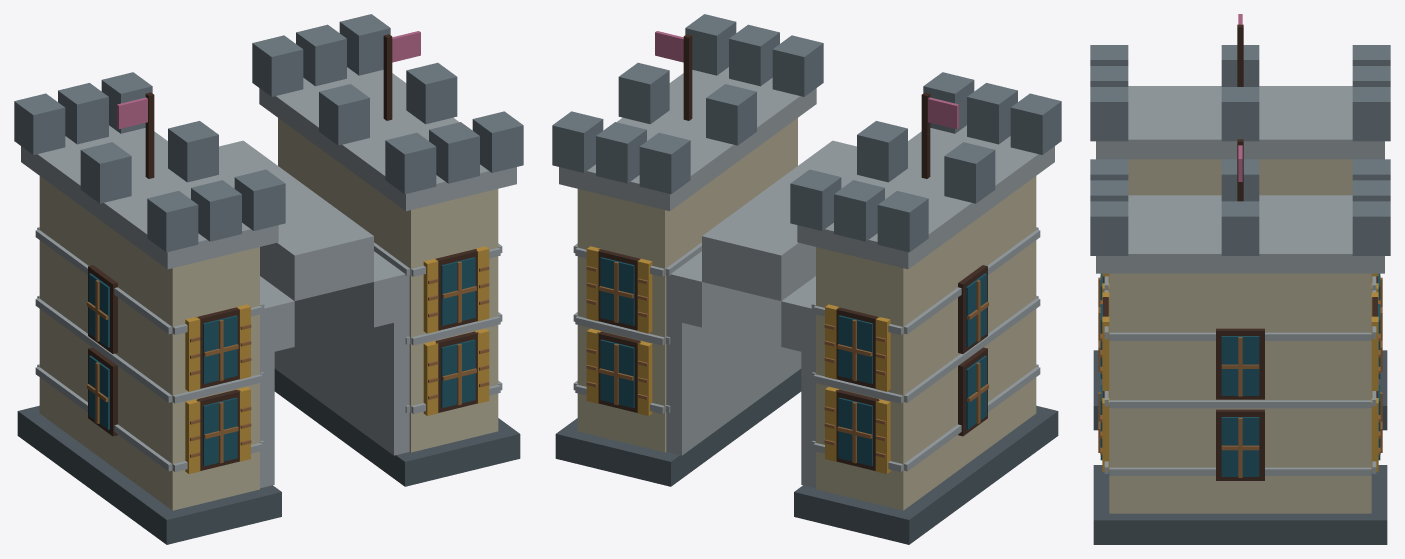
File: Blockland_CastleGatehouse_Showcase.glb
The picture shows the model from 3 angles, left to right: view 1: azimuth 30°, elevation 25°; view 2: azimuth 150°, elevation 25°; view 3: azimuth 270°, elevation 25°; orthographic projection.
Visible parts, largest first — view 1: Blockland_CastleGatehouse_Showcase; view 2: Blockland_CastleGatehouse_Showcase; view 3: Blockland_CastleGatehouse_Showcase.
Boxes of the visible parts, x1=… form: Blockland_CastleGatehouse_Showcase: x1=14, y1=14, x2=523, y2=544; Blockland_CastleGatehouse_Showcase: x1=552, y1=14, x2=1061, y2=544; Blockland_CastleGatehouse_Showcase: x1=1090, y1=14, x2=1390, y2=544.
Size of the model in its own units: 4.5 by 4.6 by 3.32.
